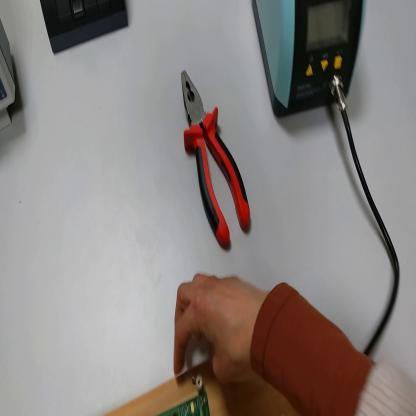hand: (173, 270, 267, 388)
low voltage board: (147, 386, 212, 416)
oscilloscope: (1, 17, 17, 131)
pliers: (181, 73, 253, 253)
welder station: (252, 1, 370, 119)
working area: (97, 358, 299, 416)
